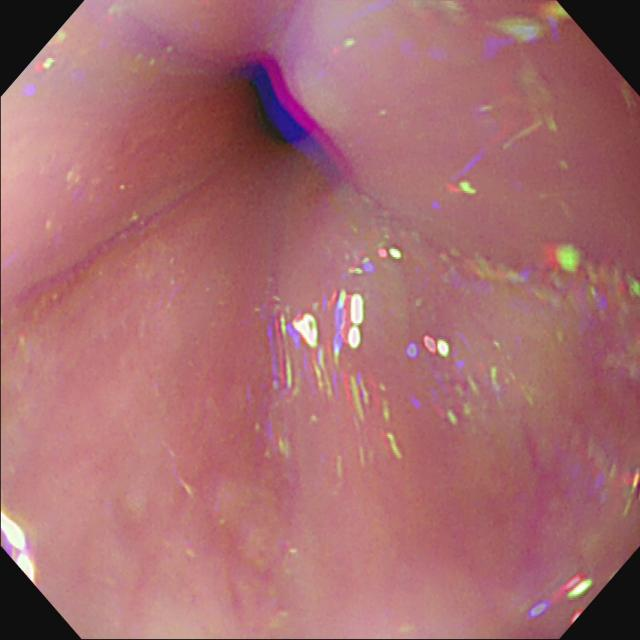E: (253, 71, 302, 150)
U: (251, 51, 357, 167), (268, 313, 332, 395), (531, 573, 596, 620), (2, 512, 38, 585), (332, 290, 364, 351), (542, 241, 581, 273), (406, 335, 449, 361)
